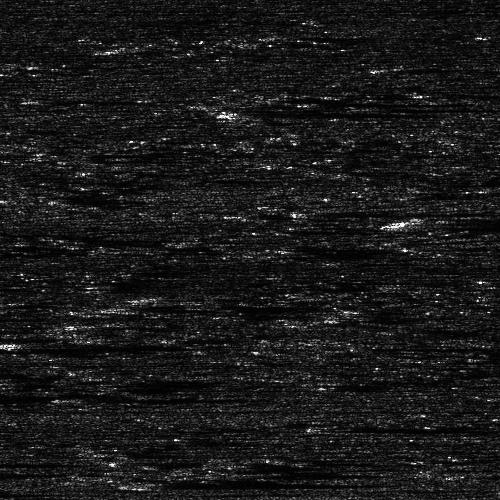rock: (357, 212, 472, 231), (183, 105, 288, 120), (123, 479, 176, 488), (275, 208, 338, 215), (199, 101, 252, 106), (487, 165, 500, 178), (323, 425, 354, 428)
shadow: (0, 387, 196, 404), (236, 105, 393, 120), (150, 479, 378, 488), (415, 212, 500, 231), (307, 208, 462, 215), (0, 345, 110, 352), (0, 82, 22, 99), (339, 425, 438, 428), (0, 333, 30, 342), (226, 101, 278, 106), (0, 459, 48, 462)
